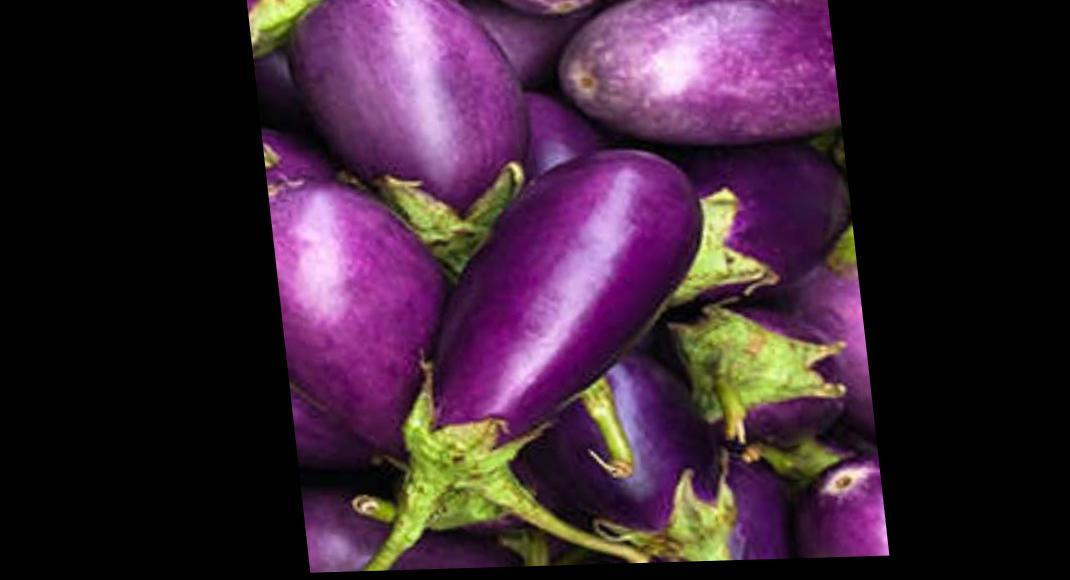eggplant: (370, 0, 848, 570)
